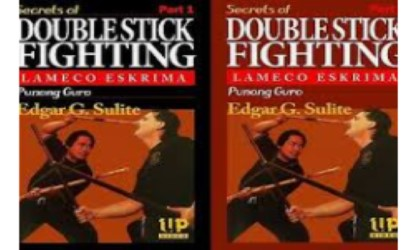baston_e: (64, 179, 179, 223), (22, 166, 120, 203), (30, 169, 113, 201)
baston_v: (27, 120, 39, 130), (123, 161, 131, 174)
